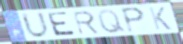E: (46, 11, 78, 37)
K: (147, 6, 173, 31)
P: (120, 6, 147, 35)
Q: (96, 9, 128, 35)
R: (71, 10, 101, 37)
U: (19, 11, 52, 40)
